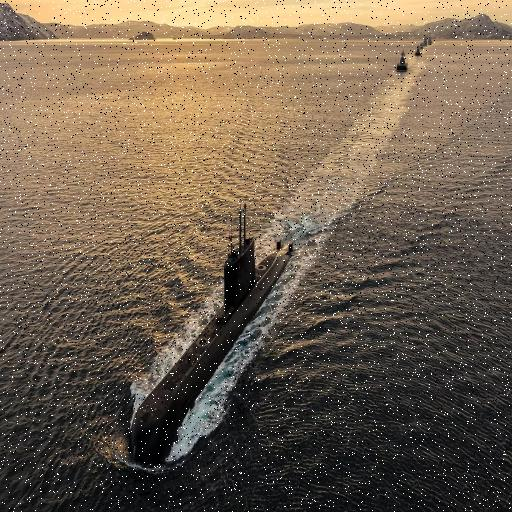submarine: (122, 198, 302, 479)
